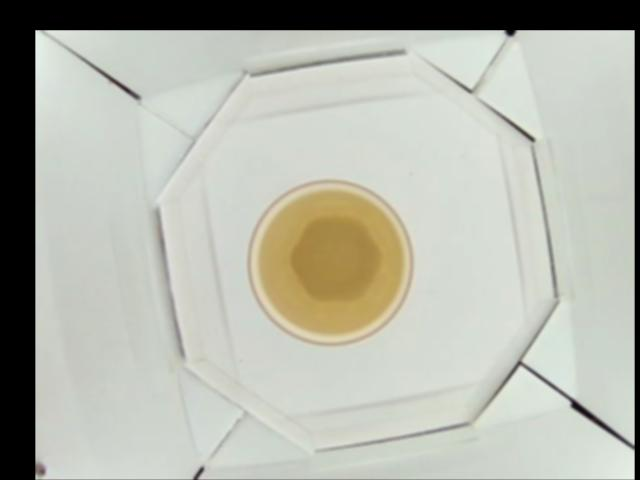Cup: (246, 179, 413, 343)
